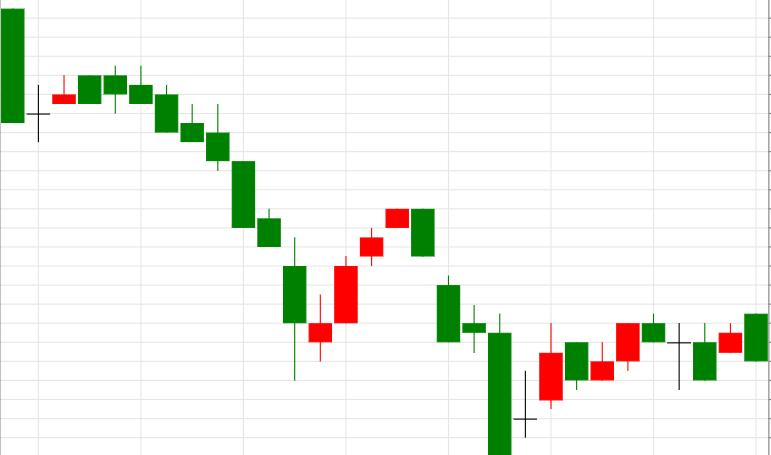morning_star_rise: (104, 66, 358, 382)
